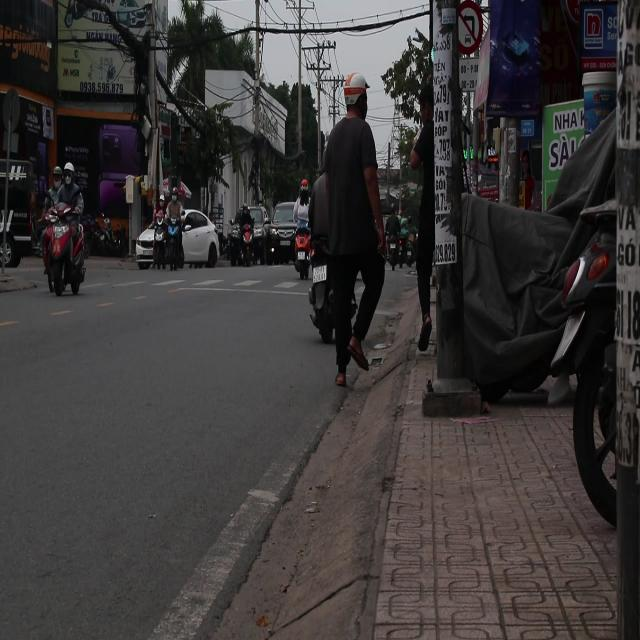car: (180, 211, 220, 269), (266, 202, 300, 264)
motorbike: (40, 205, 90, 298), (290, 212, 312, 282), (223, 223, 253, 268), (153, 212, 170, 272), (168, 214, 182, 278)
